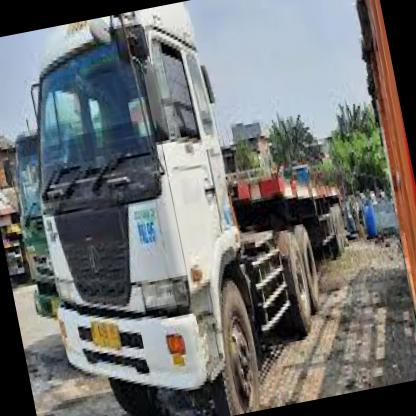truck: (3, 12, 280, 416)
